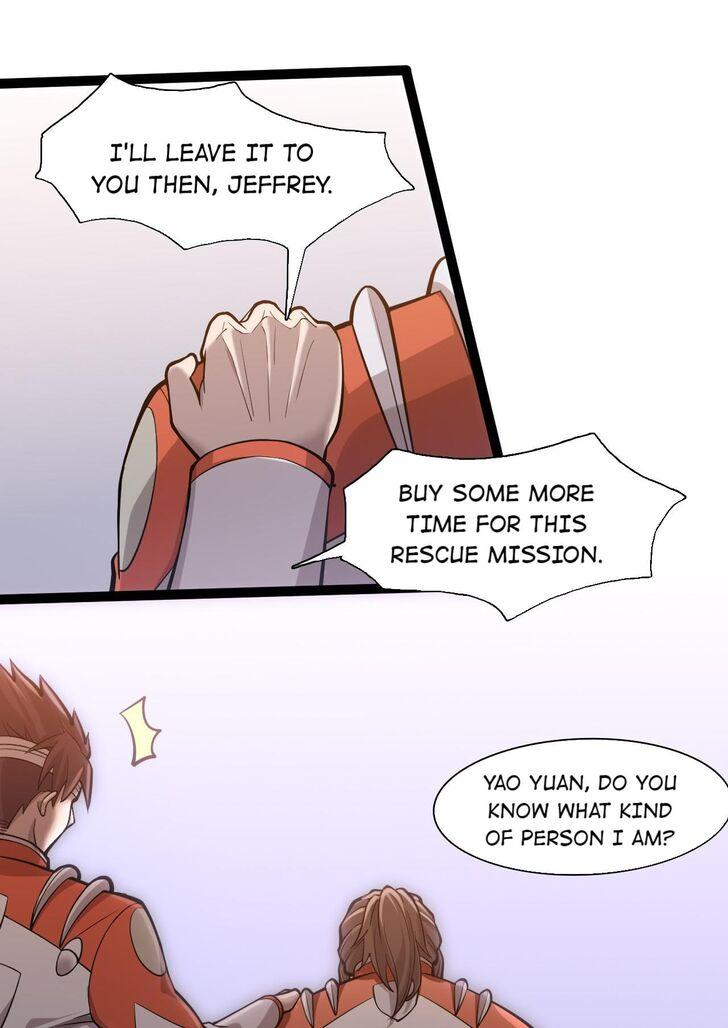Bubble: (29, 70, 421, 255), (339, 430, 689, 626), (429, 733, 728, 880)
